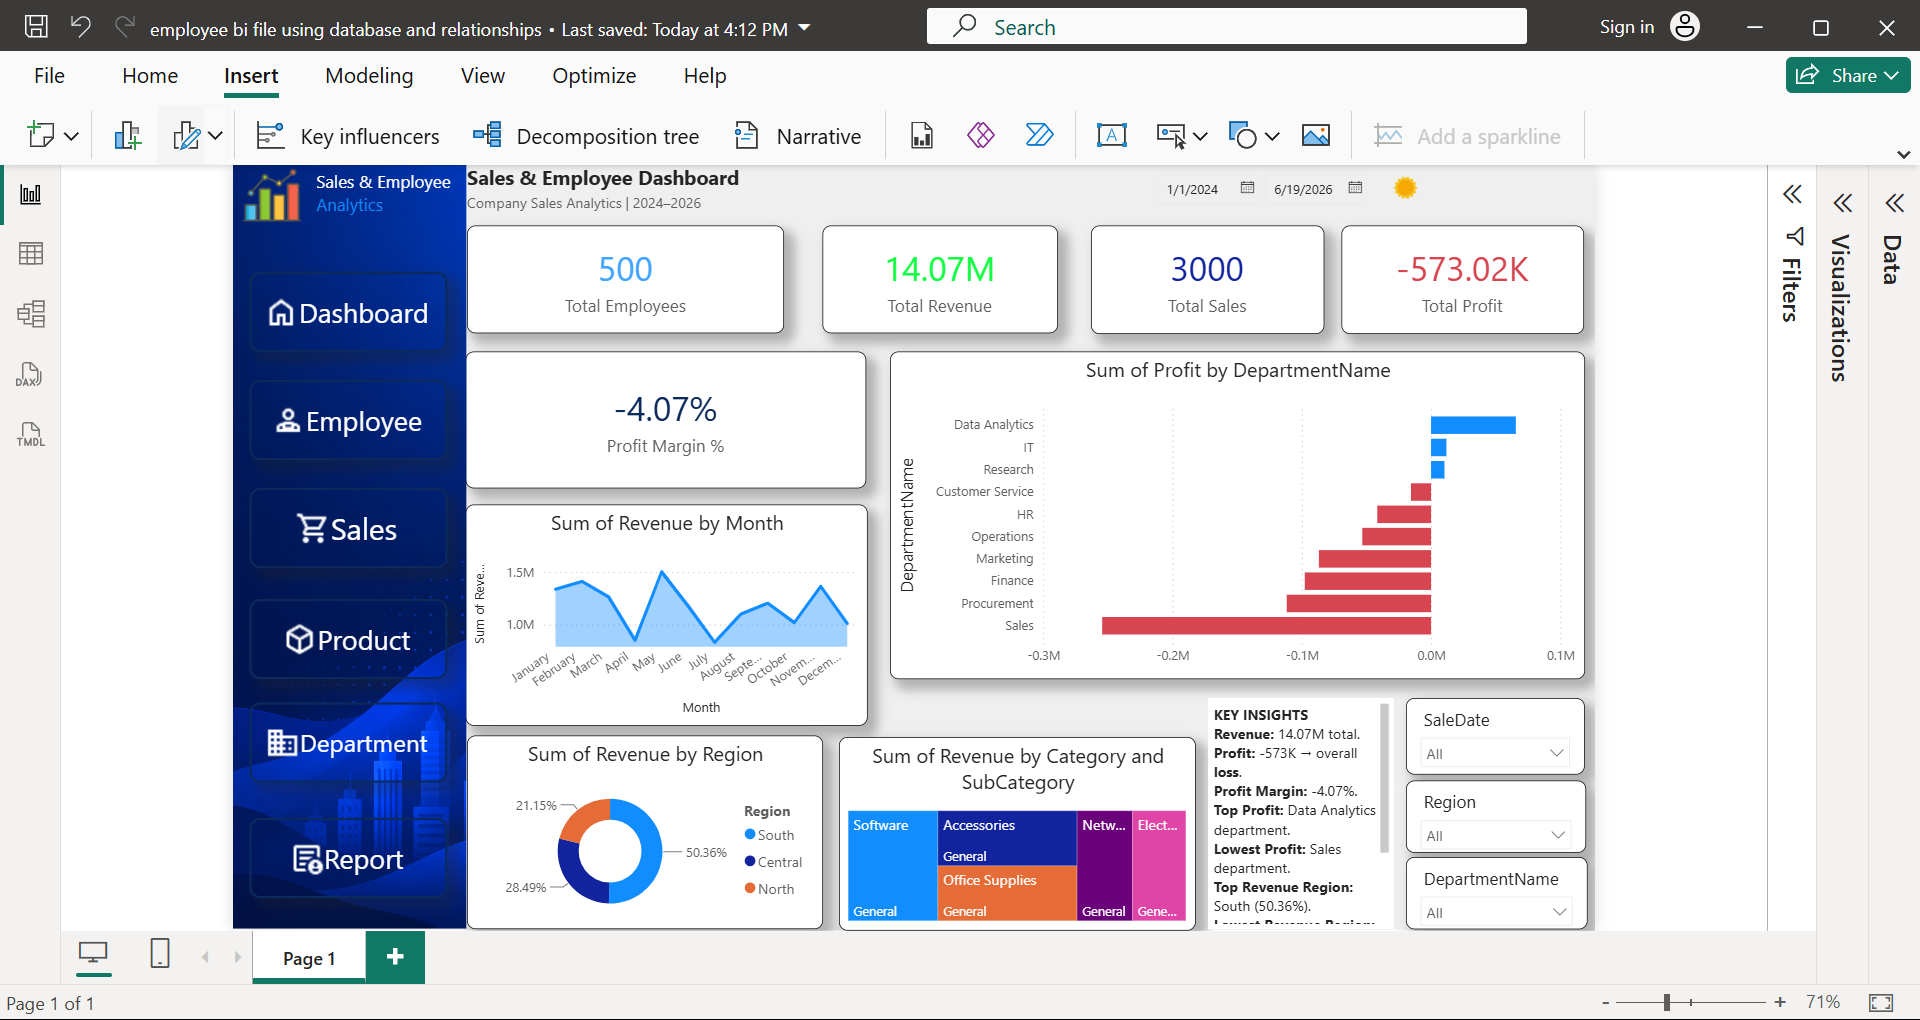

The dashboard page shown, as its layout file describes it:
{"tool":"powerbi","page":{"name":"Executive dashboard","canvas":[1280,720],"ordinal":0},"visuals":[{"type":"card","fields":{"Values":["CountNonNull(company_powerbi customers.CustomerID)"]},"box":[220,57.8,141,101.5],"z":0},{"type":"card","fields":{"Values":["Sum(company_powerbi sales.Revenue)"]},"box":[606.3,57.8,169.2,101.5],"z":1000},{"type":"card","fields":{"Values":["company_powerbi customers.Profit Margin %"]},"box":[386.3,57.8,167.8,101.5],"z":2000},{"type":"card","fields":{"Values":["CountNonNull(company_powerbi sales.SaleID)"]},"box":[806.4,57.3,219.2,101.7],"z":3000},{"type":"card","fields":{"Values":["Sum(company_powerbi sales.Profit)"]},"box":[1041.3,57.3,227.8,101.7],"z":4000},{"type":"clusteredBarChart","fields":{"Category":["company_powerbi departments.DepartmentName"],"Y":["Sum(company_powerbi sales.Profit)"]},"box":[616.9,176.7,653.5,307.7],"z":5000},{"type":"lineChart","fields":{"Y":["Sum(company_powerbi sales.Revenue)"],"Category":["company_powerbi employees.HireDate.Variation.Date Hierarchy.Month"]},"box":[218.5,176.2,379.3,351.1],"z":6000},{"type":"donutChart","fields":{"Category":["company_powerbi employees.Region"],"Y":["Sum(company_powerbi sales.Revenue)"]},"box":[219.6,537.5,334.6,181.7],"z":7000},{"type":"treemap","fields":{"Group":["company_powerbi products.Category"],"Details":["company_powerbi products.SubCategory"],"Values":["Sum(company_powerbi sales.Revenue)"]},"box":[569.6,538.6,335.6,181.9],"z":8000},{"type":"slicer","fields":{"Values":["company_powerbi sales.SaleDate"]},"box":[1102.6,501.9,167.8,71.9],"z":9000},{"type":"slicer","fields":{"Values":["company_powerbi customers.Region"]},"box":[1102.6,579.5,169.2,67.7],"z":10000},{"type":"slicer","fields":{"Values":["company_powerbi departments.DepartmentName"]},"box":[1102.6,651.4,170.6,67.7],"z":11000},{"type":"image","box":[0,0,219.5,719],"z":12000},{"type":"shape","title":"Sales & Employee Dashboard","box":[219.6,0,1059.9,57.5],"z":13000},{"type":"slicer","fields":{"Values":["company_powerbi sales.SaleDate"]},"box":[855.5,0,299.8,42.4],"z":14000},{"type":"image","box":[1081.6,11.1,41.4,22.3],"z":15000},{"type":"image","box":[0,0,73.2,58.9],"z":16000},{"type":"textbox","box":[73.2,0,146.3,58.9],"z":17000},{"type":"actionButton","box":[15.6,101.6,186,75],"z":18000},{"type":"actionButton","box":[15.6,203.2,186,75],"z":19000},{"type":"actionButton","box":[15.6,304.8,186,75],"z":20000},{"type":"actionButton","box":[15.6,409.5,186,75],"z":21000},{"type":"actionButton","box":[15.6,506.4,186,75],"z":22000},{"type":"actionButton","box":[15.6,614.3,186,75],"z":23000},{"type":"textbox","box":[916.5,501.9,174.8,217.1],"z":24000}]}

Visuals, with their boxes on the page's 1280x720 design canvas (x1, y1, x2, y2). These are canvas units, not pixel positions in the 1920x1020 screenshot, which may show the page scaled, cropped or inside an application window:
card - CountNonNull(company_powerbi customers.CustomerID): select_region(220, 58, 361, 159)
card - Sum(company_powerbi sales.Revenue): select_region(606, 58, 776, 159)
card - company_powerbi customers.Profit Margin %: select_region(386, 58, 554, 159)
card - CountNonNull(company_powerbi sales.SaleID): select_region(806, 57, 1026, 159)
card - Sum(company_powerbi sales.Profit): select_region(1041, 57, 1269, 159)
clusteredBarChart - company_powerbi departments.DepartmentName x Sum(company_powerbi sales.Profit): select_region(617, 177, 1270, 484)
lineChart - Sum(company_powerbi sales.Revenue) x company_powerbi employees.HireDate.Variation.Date Hierarchy.Month: select_region(218, 176, 598, 527)
donutChart - company_powerbi employees.Region x Sum(company_powerbi sales.Revenue): select_region(220, 538, 554, 719)
treemap - company_powerbi products.Category x company_powerbi products.SubCategory: select_region(570, 539, 905, 720)
slicer - company_powerbi sales.SaleDate: select_region(1103, 502, 1270, 574)
slicer - company_powerbi customers.Region: select_region(1103, 580, 1272, 647)
slicer - company_powerbi departments.DepartmentName: select_region(1103, 651, 1273, 719)
image: select_region(0, 0, 220, 719)
"Sales & Employee Dashboard" shape: select_region(220, 0, 1280, 58)
slicer - company_powerbi sales.SaleDate: select_region(856, 0, 1155, 42)
image: select_region(1082, 11, 1123, 33)
image: select_region(0, 0, 73, 59)
textbox: select_region(73, 0, 220, 59)
actionButton: select_region(16, 102, 202, 177)
actionButton: select_region(16, 203, 202, 278)
actionButton: select_region(16, 305, 202, 380)
actionButton: select_region(16, 410, 202, 484)
actionButton: select_region(16, 506, 202, 581)
actionButton: select_region(16, 614, 202, 689)
textbox: select_region(916, 502, 1091, 719)
